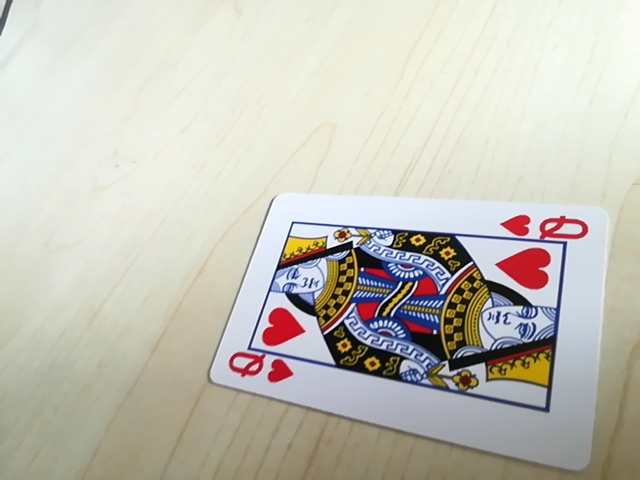hx q: (499, 211, 591, 245), (222, 351, 294, 387)
